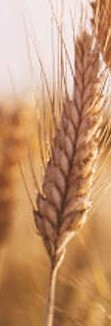Healthy Wheat: (27, 31, 111, 262)
